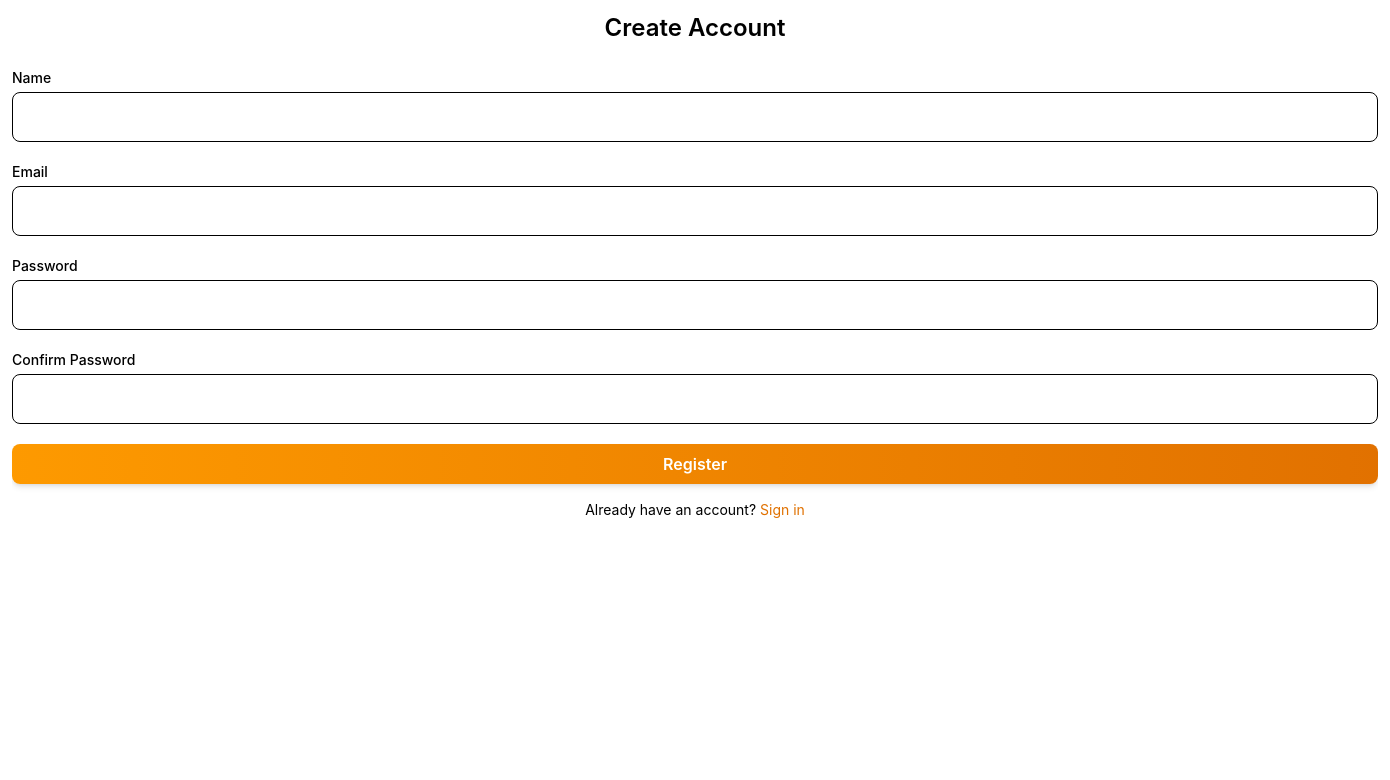
Test: Register › Form validation › shows error for invalid email format
Type "Test User" into the field labelled "Name".
click(695, 117); type("Test User")  # box 12,92 -> 1378,142
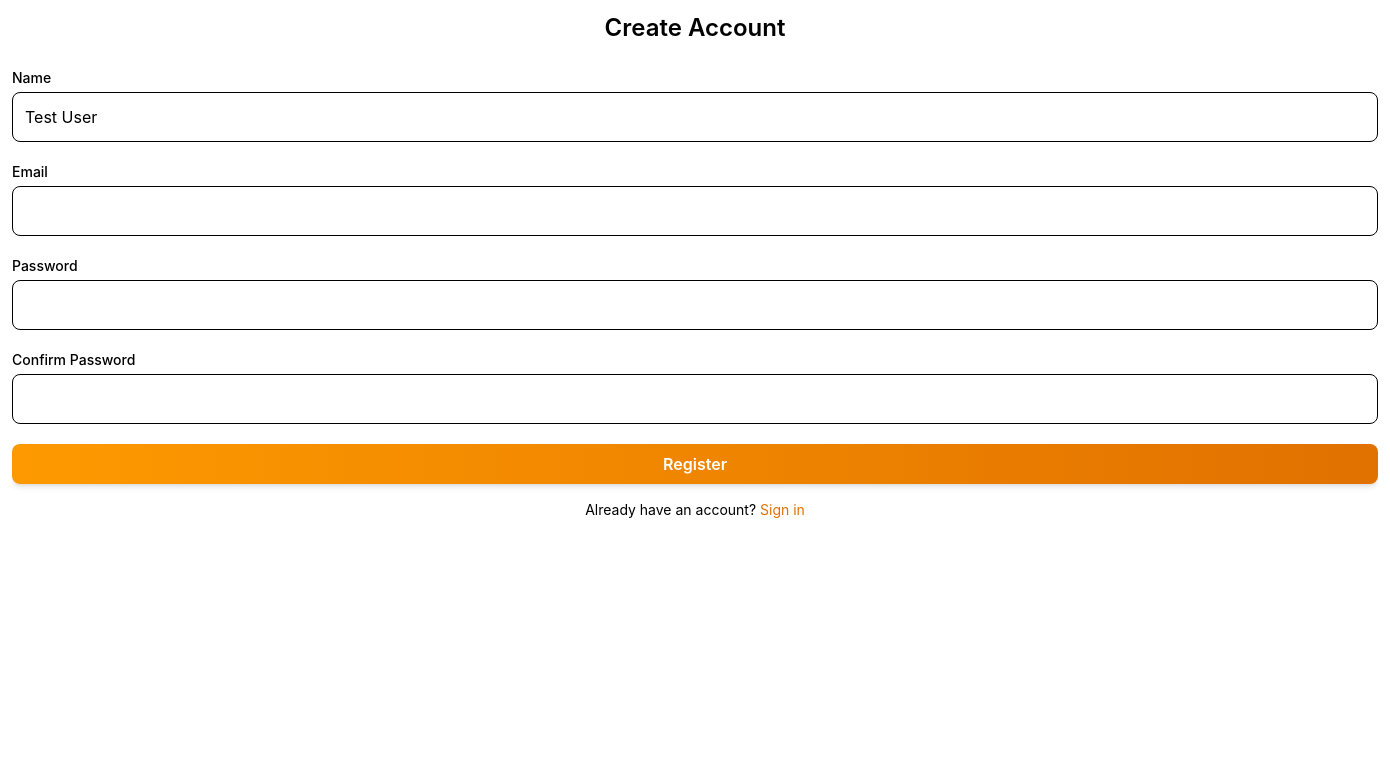
Type "notanemail" into the field labelled "Email".
click(695, 211); type("notanemail")  # box 12,186 -> 1378,236
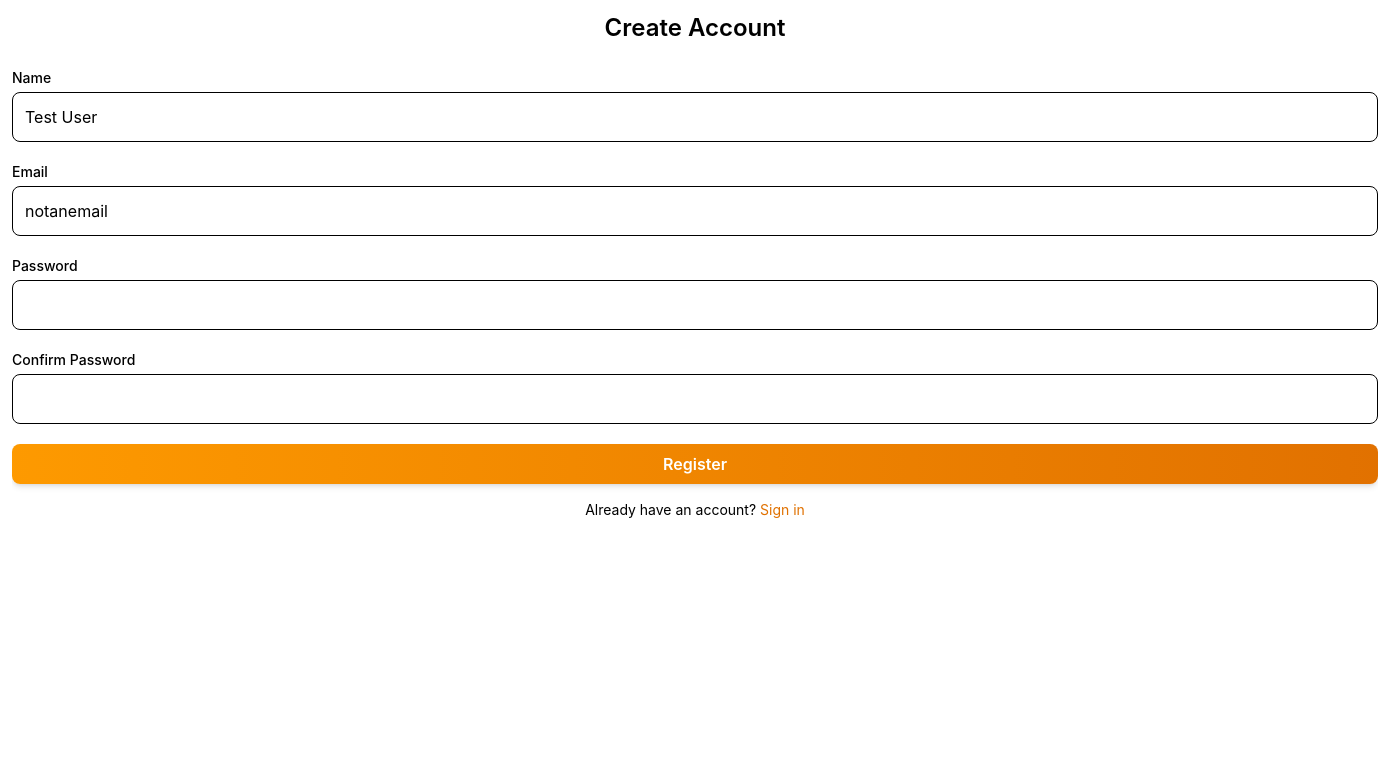
Type "password123" into the password field labelled "Password".
click(695, 305); type("password123")  # box 12,280 -> 1378,330
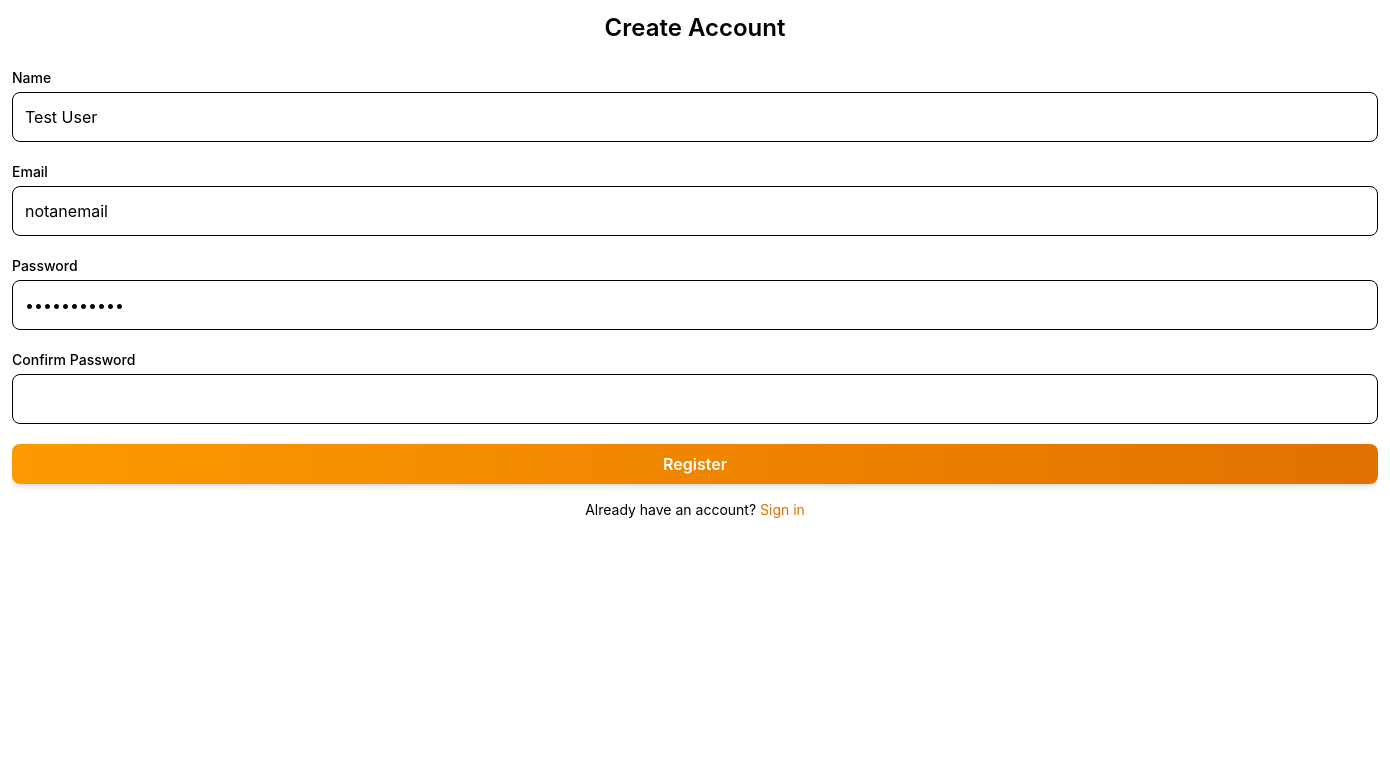
Type "password123" into the password field labelled "Confirm Password".
click(695, 399); type("password123")  # box 12,374 -> 1378,424
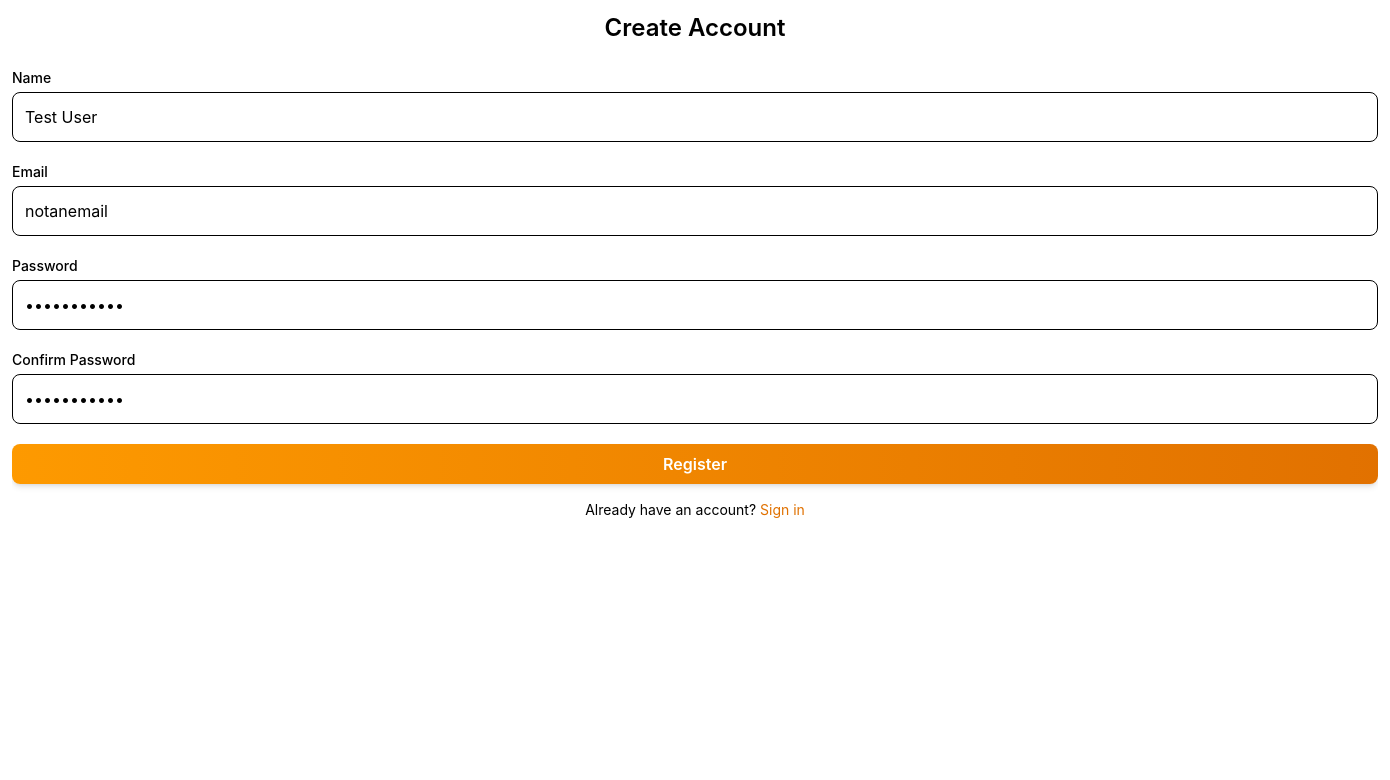
Click the button "Register".
click(695, 464)  # box 12,444 -> 1378,484
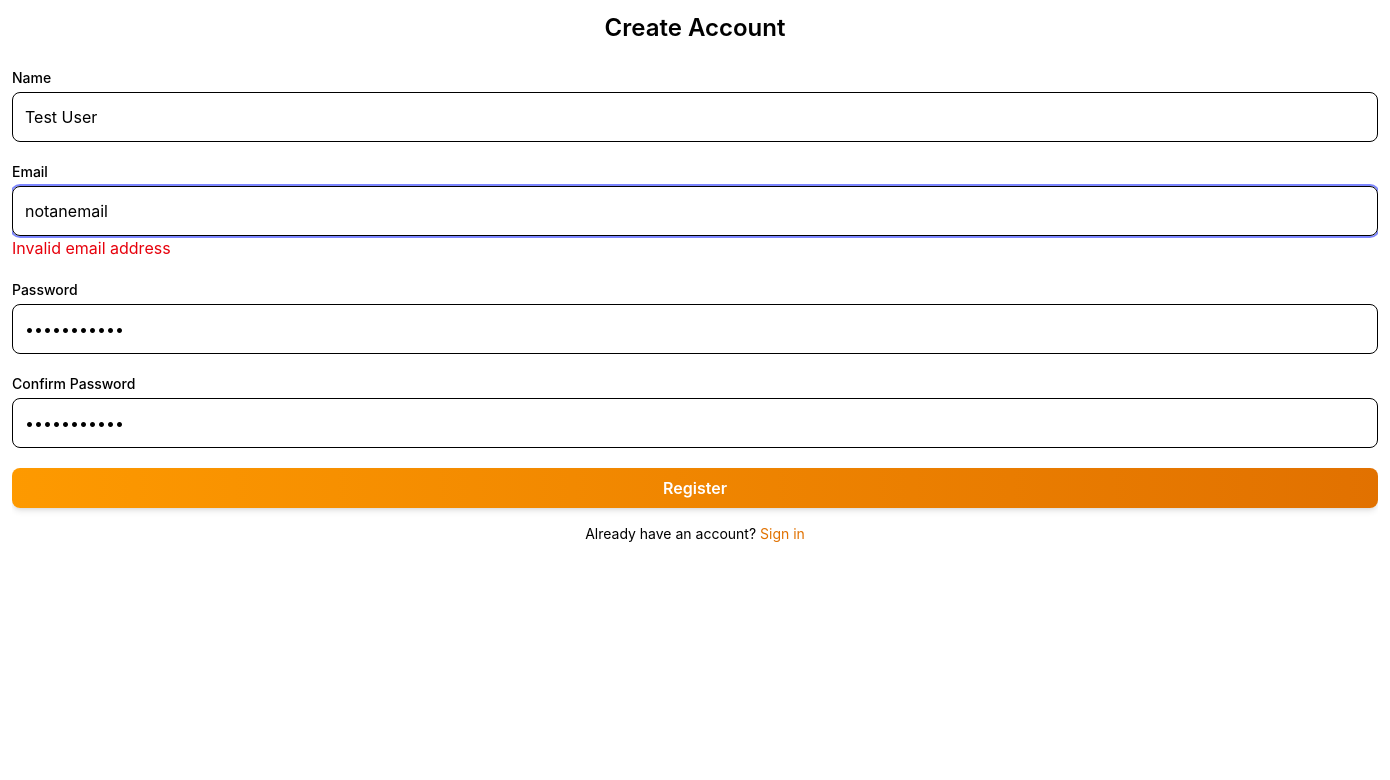
Result: the text "Invalid email address" is shown at 12,238 -> 171,258
